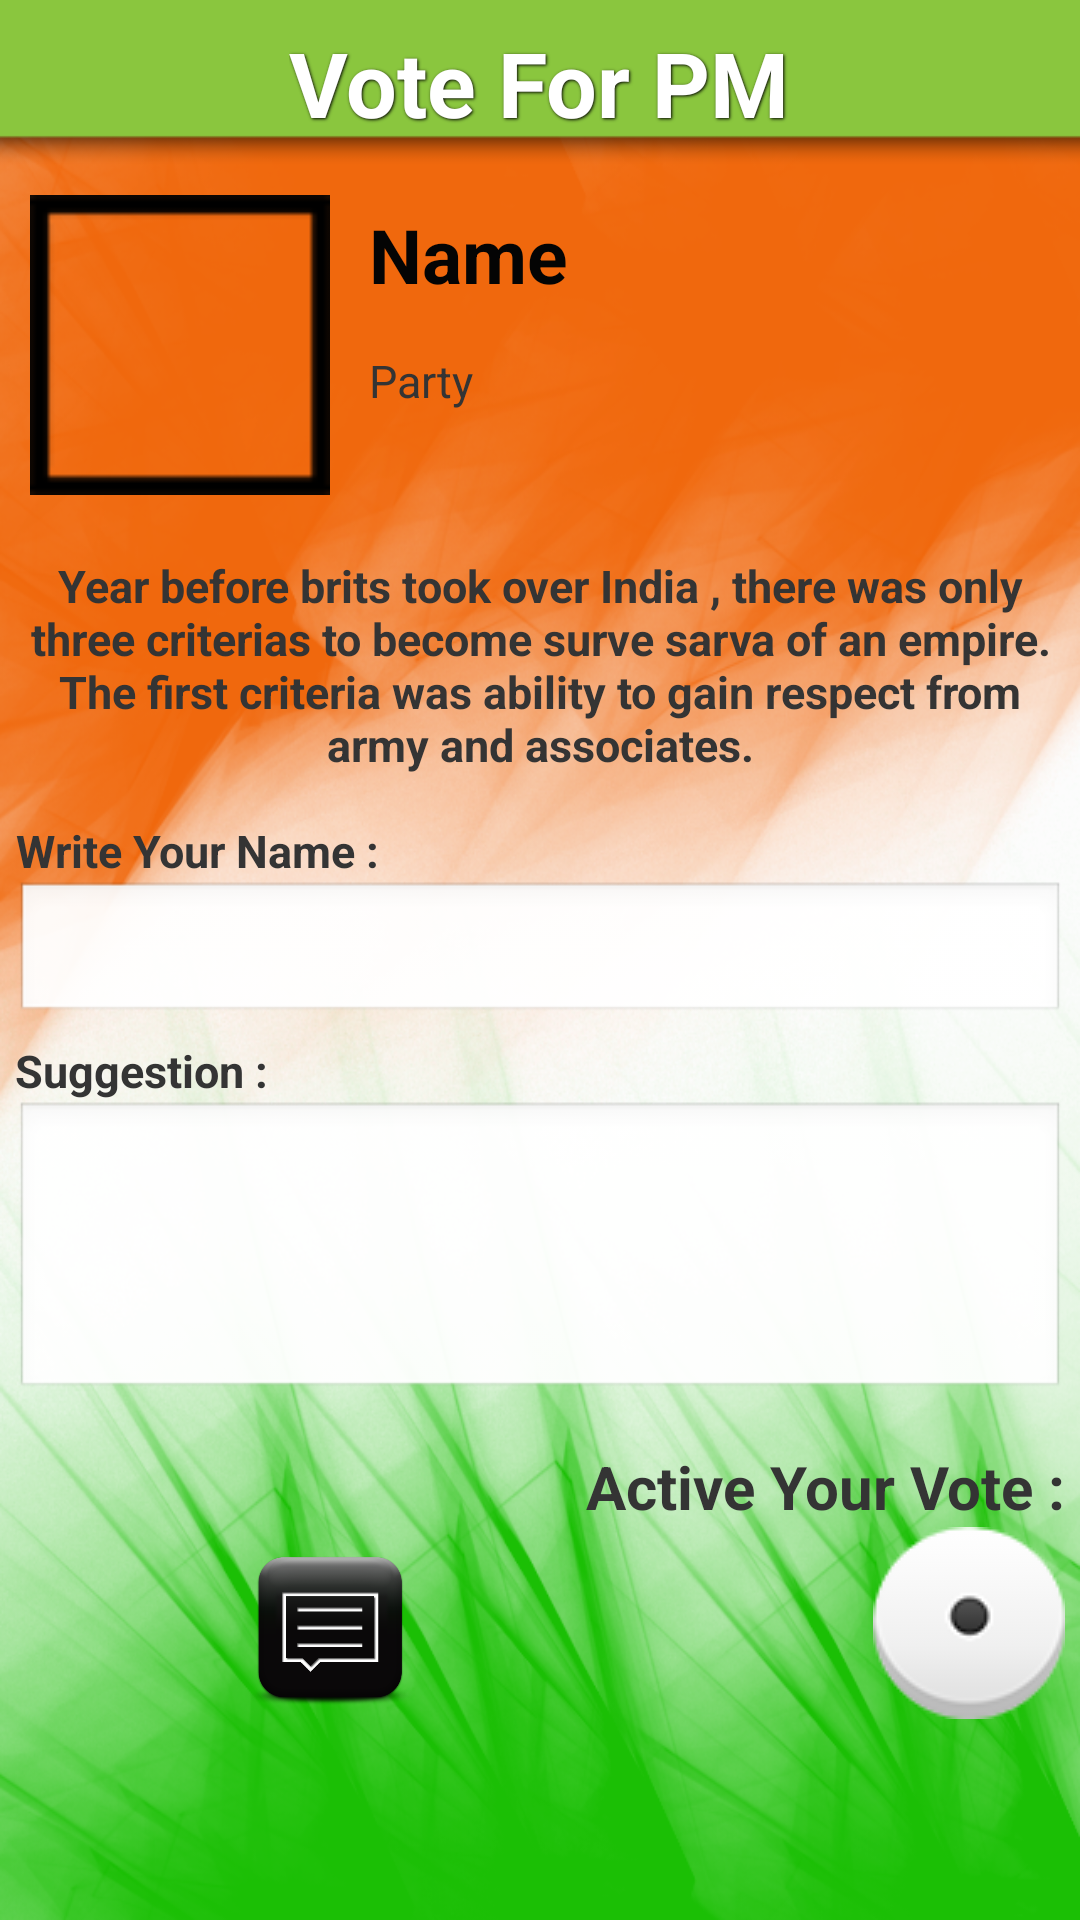

Point at icon controls on the screen. Image size 1080 x 1920, points as (x=x, y=y).
buttonoff: (x=969, y=1623)
review: (x=330, y=1632)
